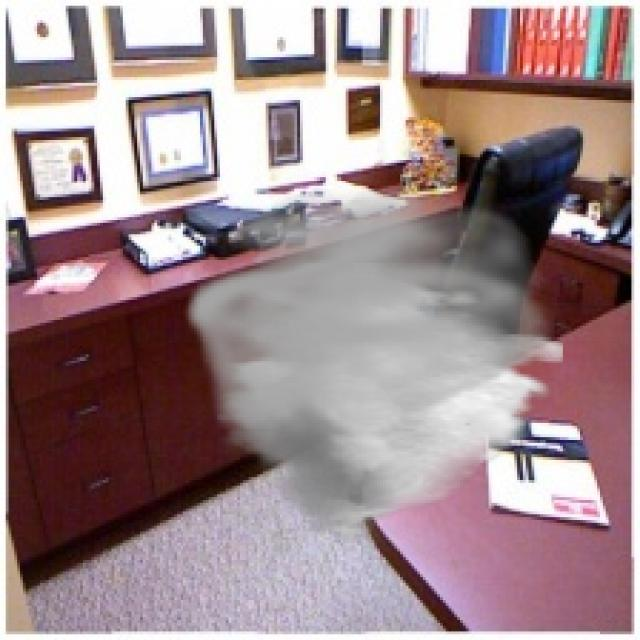smoke: (180, 186, 563, 543)
